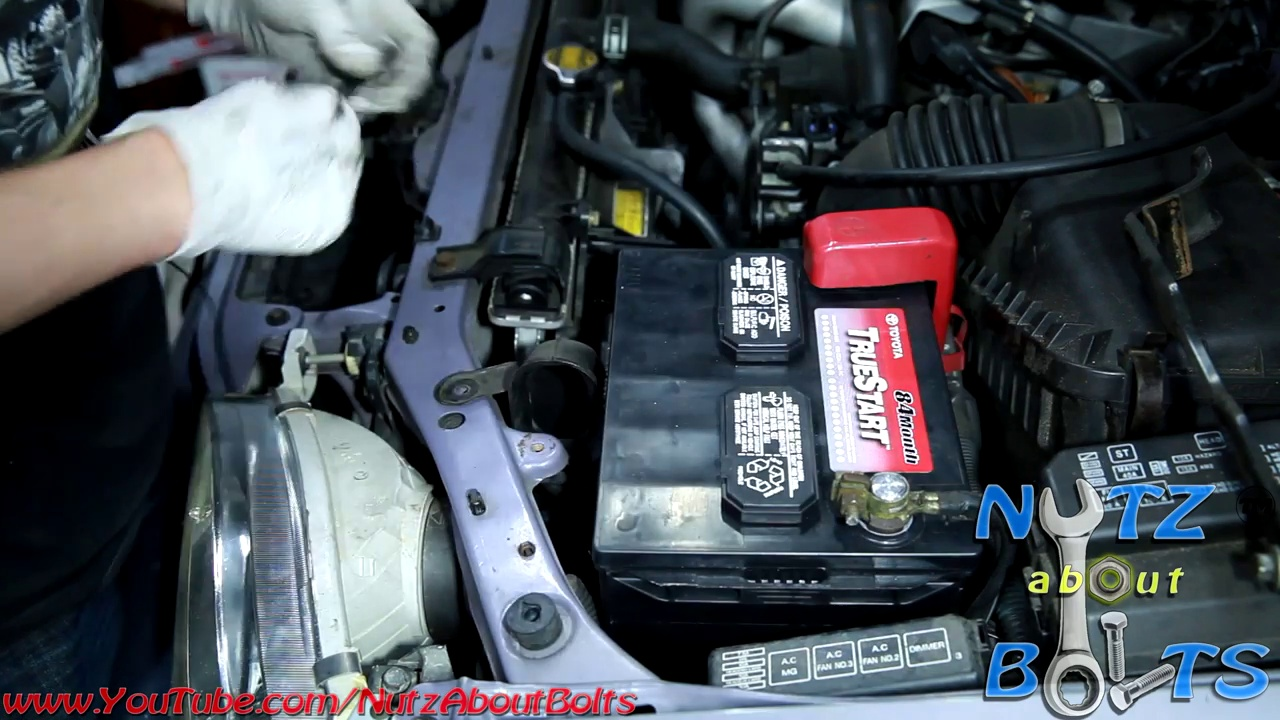battery: (578, 211, 1006, 587)
neg_connected: (823, 448, 962, 548)
pos_connected: (786, 194, 975, 366)
